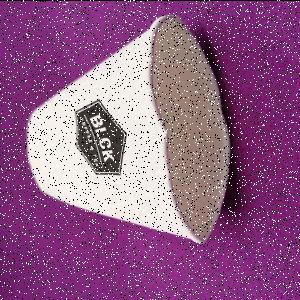Cup: (27, 13, 234, 245)
